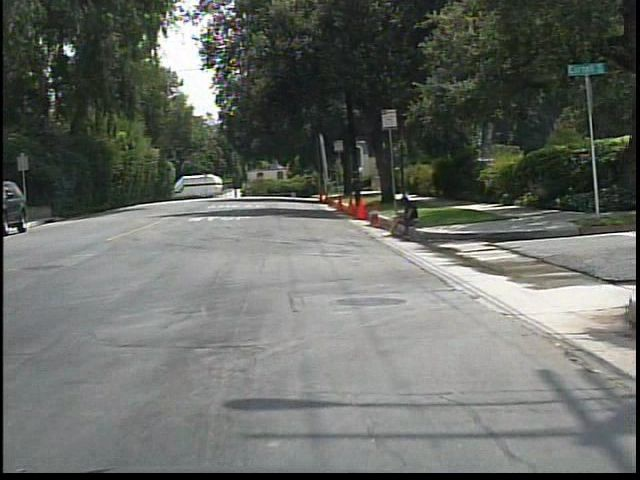person: (382, 191, 428, 241)
